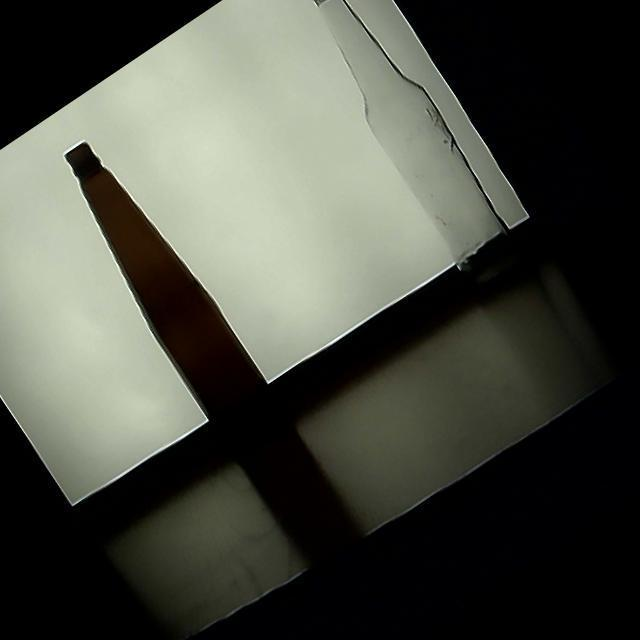Glass: (64, 140, 298, 471), (313, 0, 523, 298)
